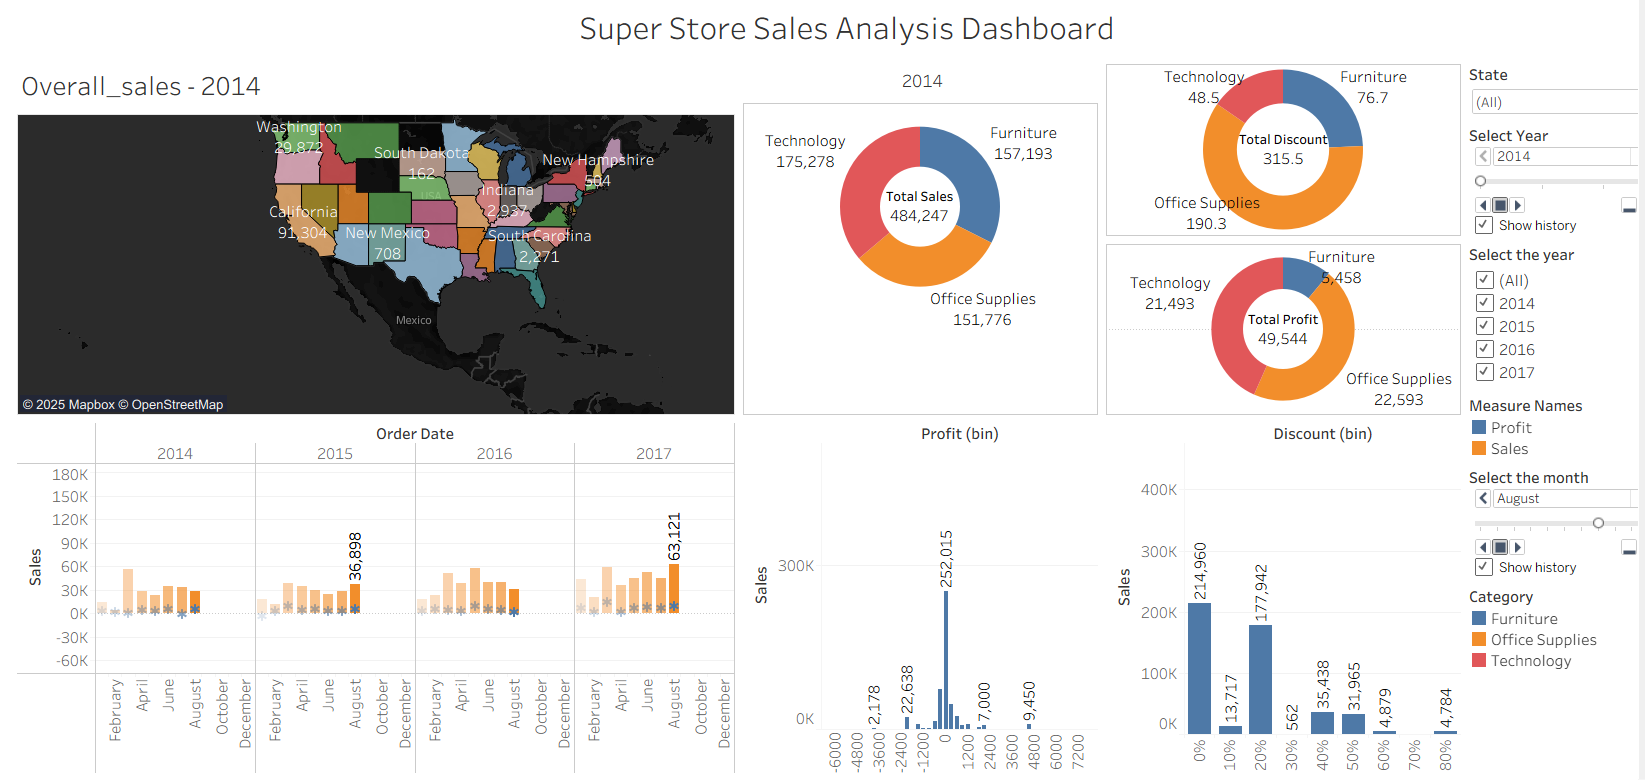

The dashboard page shown, as its layout file describes it:
{"tool":"tableau","page":{"name":"Super Store Sales Analysis Dashboard","canvas":[1000,1000],"units":"permille","ordinal":0},"visuals":[{"type":"title","box":[4.7,10,990.6,62.5]},{"type":"worksheet","title":"Overall_sales","mark":"Multipolygon","box":[9.4,82.5,427,448.7]},{"type":"worksheet","title":"Sales_info_donut","mark":"Pie","rows":["Calculation_3151112398555348992","Calculation_3151112398555348992"],"box":[436.4,82.5,213.6,448.7]},{"type":"worksheet","title":"Discount_info_donut","mark":"Pie","rows":["Calculation_3151112398555348992","Calculation_3151112398555348992"],"box":[650,82.5,213.6,225]},{"type":"filter","title":"Overall_sales","param":"[federated.1g0b1ba07ohu961a8v92d1i6udx5].[none:State:nk]","box":[863.5,82.5,127.1,76.2]},{"type":"currpage","title":"Overall_sales","box":[863.5,158.8,127.1,148.8]},{"type":"worksheet","title":"Profit_info_donut","mark":"Pie","rows":["Calculation_3151112398555348992","Calculation_3151112398555348992"],"box":[650,307.5,213.6,223.7]},{"type":"filter","title":"Sales vs Profit","param":"[federated.1g0b1ba07ohu961a8v92d1i6udx5].[yr:Order Date:ok]","box":[863.5,307.5,127.1,188.8]},{"type":"legend","title":"Sales vs Profit","param":"[federated.1g0b1ba07ohu961a8v92d1i6udx5].[:Measure Names]","box":[863.5,496.2,127.1,90]},{"type":"worksheet","title":"Sales vs Profit","mark":"Automatic","rows":["Sales","Profit"],"cols":["Order Date","Order Date"],"box":[9.4,531.2,427,448.8]},{"type":"worksheet","title":"Profit_distribution","mark":"Automatic","rows":["Sales"],"cols":["Profit (bin)"],"box":[436.4,531.2,213.5,448.8]},{"type":"worksheet","title":"Discount_distribution","mark":"Automatic","rows":["Sales"],"cols":["Discount (bin)"],"box":[649.9,531.2,213.6,448.8]},{"type":"currpage","title":"Sales vs Profit","box":[863.5,586.2,127.1,148.8]},{"type":"legend","title":"Sales_info_donut","param":"[federated.1g0b1ba07ohu961a8v92d1i6udx5].[none:Category:nk]","box":[863.5,735,127.1,116.2]}]}

Visuals, with their boxes on the dashboard's canvas, which has no fixed pixel size, in thousandths of its width and height (x1, y1, x2, y2). These are canvas units, not pixel positions in the 1645x780 screenshot, which may show the page scaled, cropped or inside an application window:
title: <bbox>5, 10, 995, 72</bbox>
"Overall_sales" worksheet (Multipolygon marks): <bbox>9, 82, 436, 531</bbox>
"Sales_info_donut" worksheet (Pie marks): <bbox>436, 82, 650, 531</bbox>
"Discount_info_donut" worksheet (Pie marks): <bbox>650, 82, 864, 308</bbox>
"Overall_sales" filter: <bbox>864, 82, 991, 159</bbox>
"Overall_sales" currpage: <bbox>864, 159, 991, 308</bbox>
"Profit_info_donut" worksheet (Pie marks): <bbox>650, 308, 864, 531</bbox>
"Sales vs Profit" filter: <bbox>864, 308, 991, 496</bbox>
"Sales vs Profit" legend: <bbox>864, 496, 991, 586</bbox>
"Sales vs Profit" worksheet: <bbox>9, 531, 436, 980</bbox>
"Profit_distribution" worksheet: <bbox>436, 531, 650, 980</bbox>
"Discount_distribution" worksheet: <bbox>650, 531, 864, 980</bbox>
"Sales vs Profit" currpage: <bbox>864, 586, 991, 735</bbox>
"Sales_info_donut" legend: <bbox>864, 735, 991, 851</bbox>
